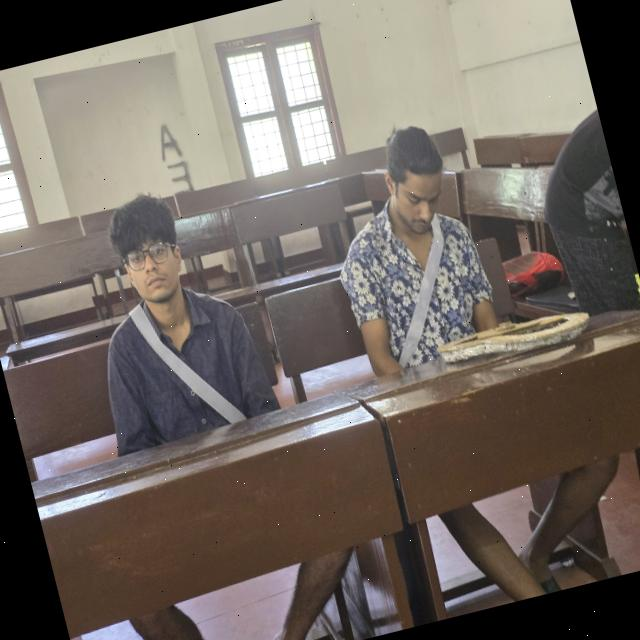seatbelt: (125, 287, 248, 448), (360, 206, 472, 368)
